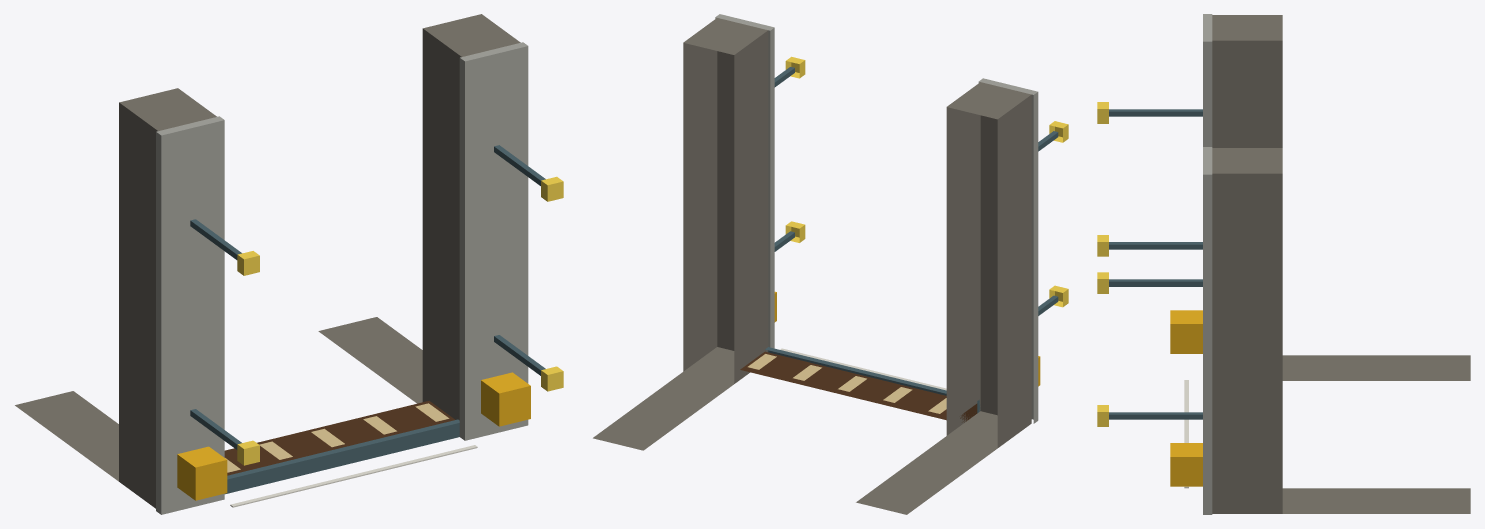
File: upper.glb
3 renders of one model, left to right at view 1: azimuth 30°, elevation 25°; view 2: azimuth 150°, elevation 25°; view 3: azimuth 270°, elevation 25°, orthographic. The views are drawn at different scales.
Visible parts, largest first — view 1: lock_upper; view 2: lock_upper; view 3: lock_upper.
Part boxes in pixels (bbox=[...]): lock_upper: bbox=[15, 14, 563, 514]; lock_upper: bbox=[593, 14, 1068, 514]; lock_upper: bbox=[1097, 14, 1470, 514].
Size of the model in its own units: 16.2 by 16 by 15.9.
